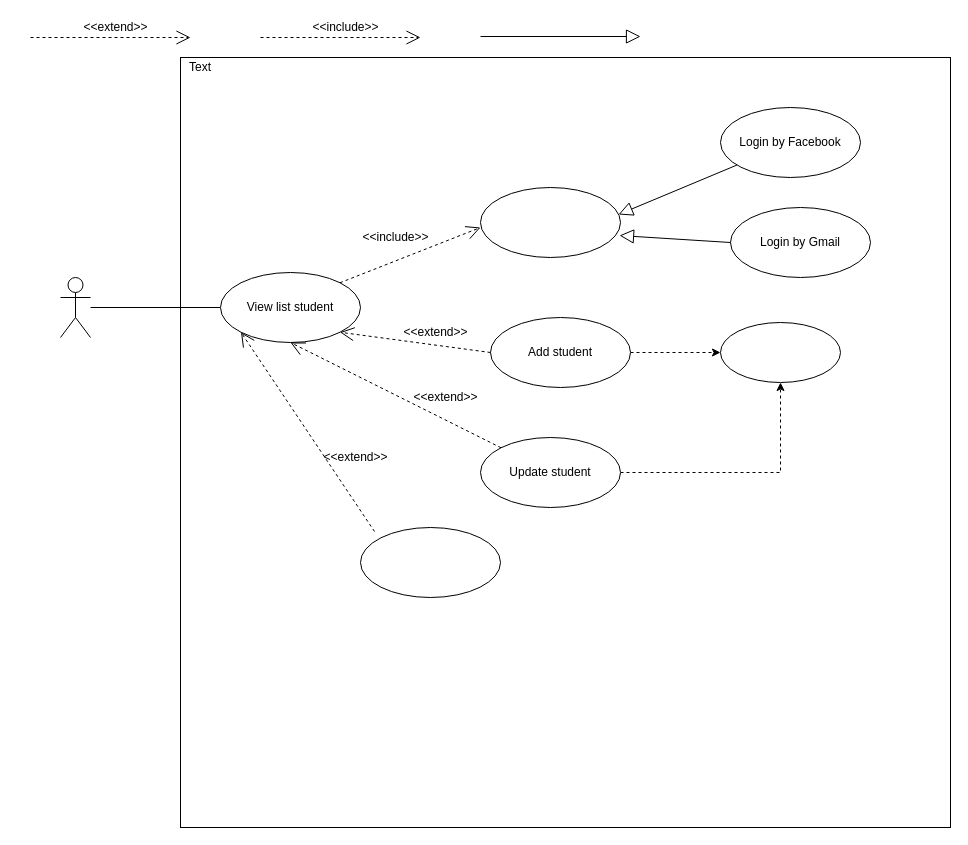
This 968x845 diagram has some shape labels left out. Each missing label, with the centre of its shape:
"Actor" goes at point 75,307.
"Delete student" goes at point 430,562.
"Login" goes at point 550,222.
